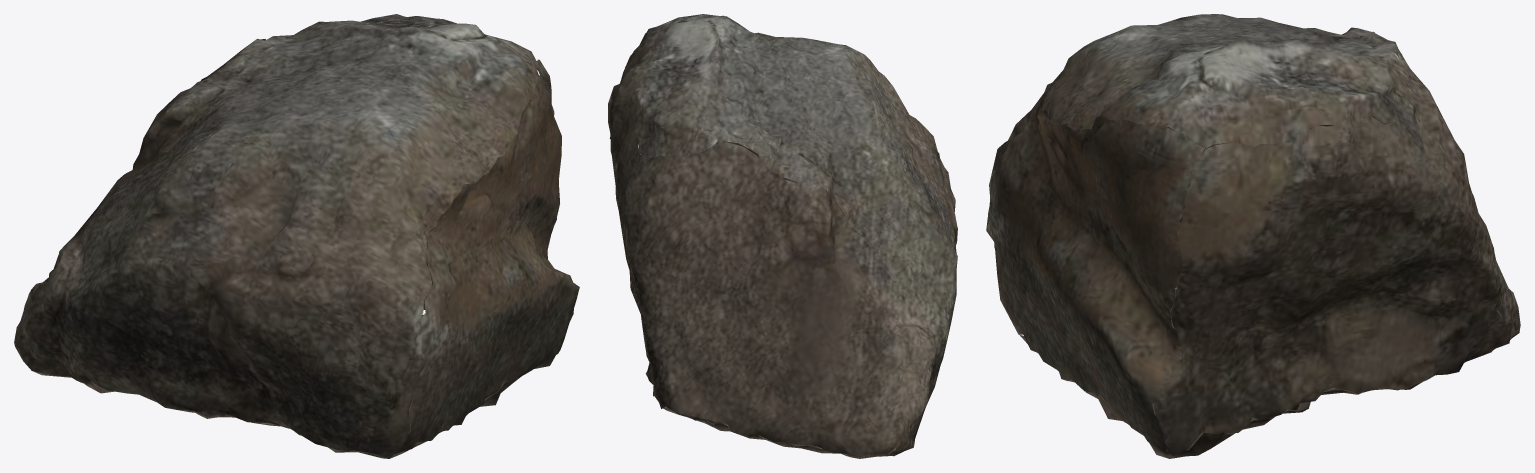
Rendered from namaqualand_boulder_04.glb.
The picture shows the model from 3 angles, left to right: view 1: azimuth 30°, elevation 25°; view 2: azimuth 150°, elevation 25°; view 3: azimuth 270°, elevation 25°; orthographic projection. The views are drawn at different scales.
Parts seen in each view (by area): view 1: boulder_04; view 2: boulder_04; view 3: boulder_04.
Part boxes in pixels (x1=…): boulder_04: x1=14, y1=14, x2=579, y2=458; boulder_04: x1=608, y1=14, x2=957, y2=458; boulder_04: x1=986, y1=14, x2=1520, y2=458.
Size of the model in its own units: 2.52 by 1.9 by 2.5.
1 material, 1 textured.
